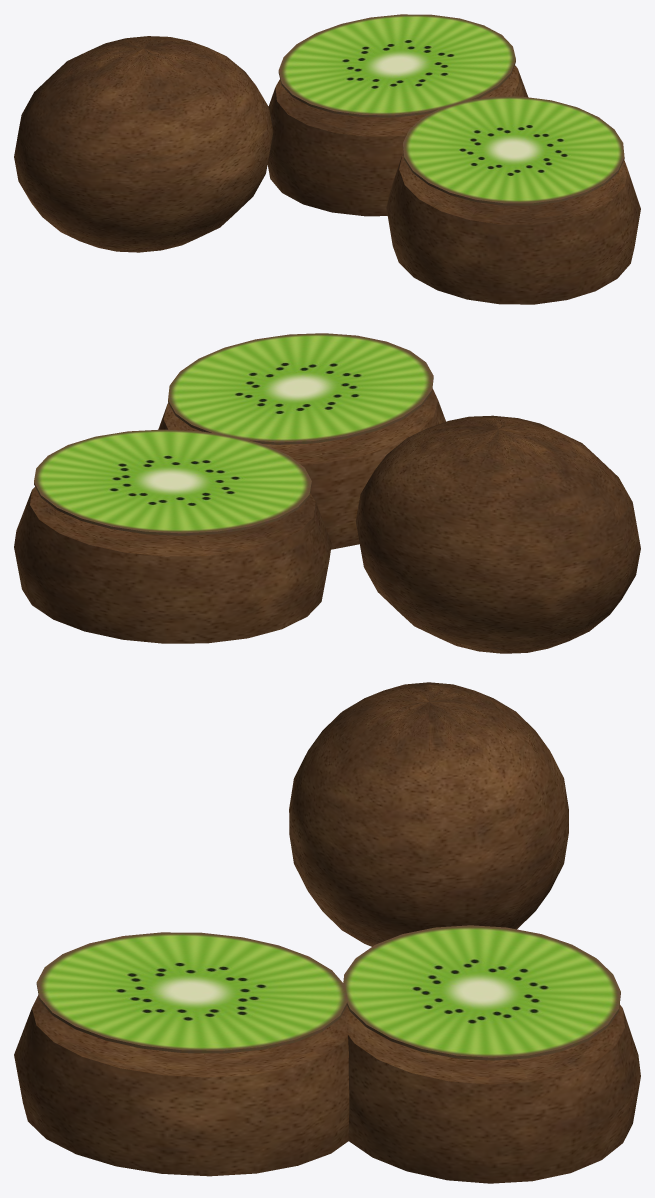
File: fruit_kiwi_halves.glb
The picture shows the model from 3 angles, top to bottom: view 1: azimuth 30°, elevation 25°; view 2: azimuth 150°, elevation 25°; view 3: azimuth 270°, elevation 25°; orthographic projection. The views are drawn at different scales.
Parts seen in each view (by area): view 1: fruit_kiwi_halves; view 2: fruit_kiwi_halves; view 3: fruit_kiwi_halves.
Part boxes in pixels (bbox=[...]): fruit_kiwi_halves: bbox=[14, 14, 640, 304]; fruit_kiwi_halves: bbox=[14, 333, 640, 653]; fruit_kiwi_halves: bbox=[14, 682, 640, 1183].
Bounding box in the file's own units: 0.1411 × 0.051 × 0.1192.
2 materials, 2 textured.
